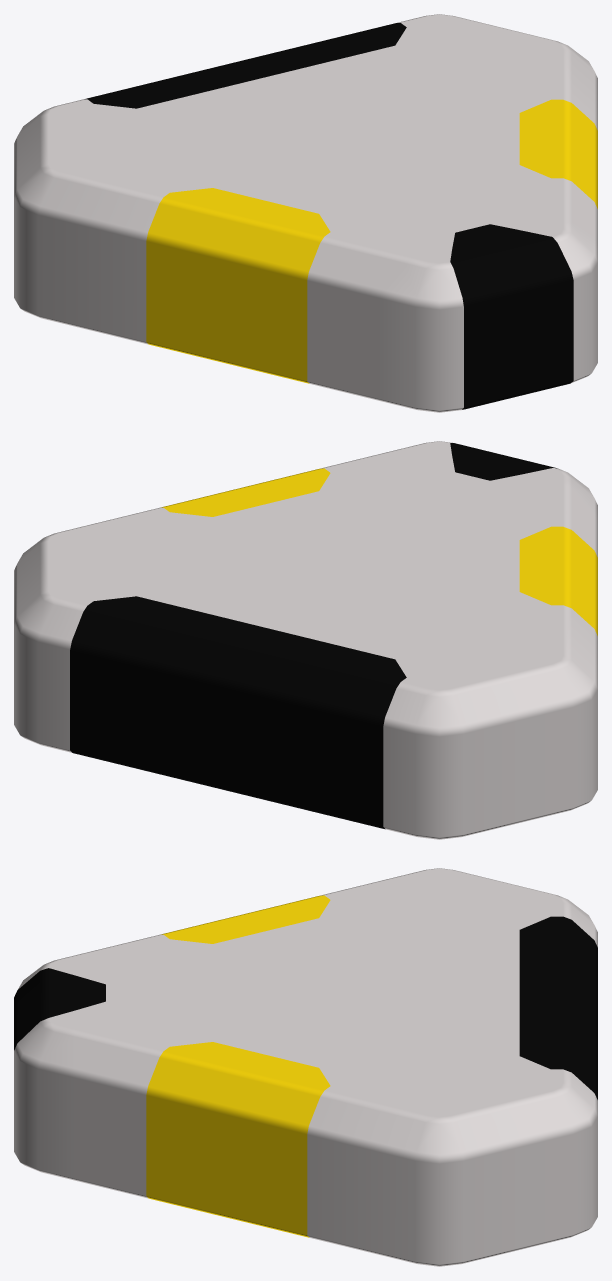
Rendered from TriangleBox.fbx.
3 renders of one model, top to bottom at view 1: azimuth 30°, elevation 25°; view 2: azimuth 150°, elevation 25°; view 3: azimuth 270°, elevation 25°, orthographic.
Visible parts, largest first — view 1: Container004; view 2: Container004; view 3: Container004.
Boxes of the visible parts, x1=… form: Container004: x1=14, y1=14, x2=597, y2=412; Container004: x1=14, y1=441, x2=597, y2=839; Container004: x1=14, y1=868, x2=597, y2=1266.
Size of the model in its own units: 183 by 41.79 by 162.
